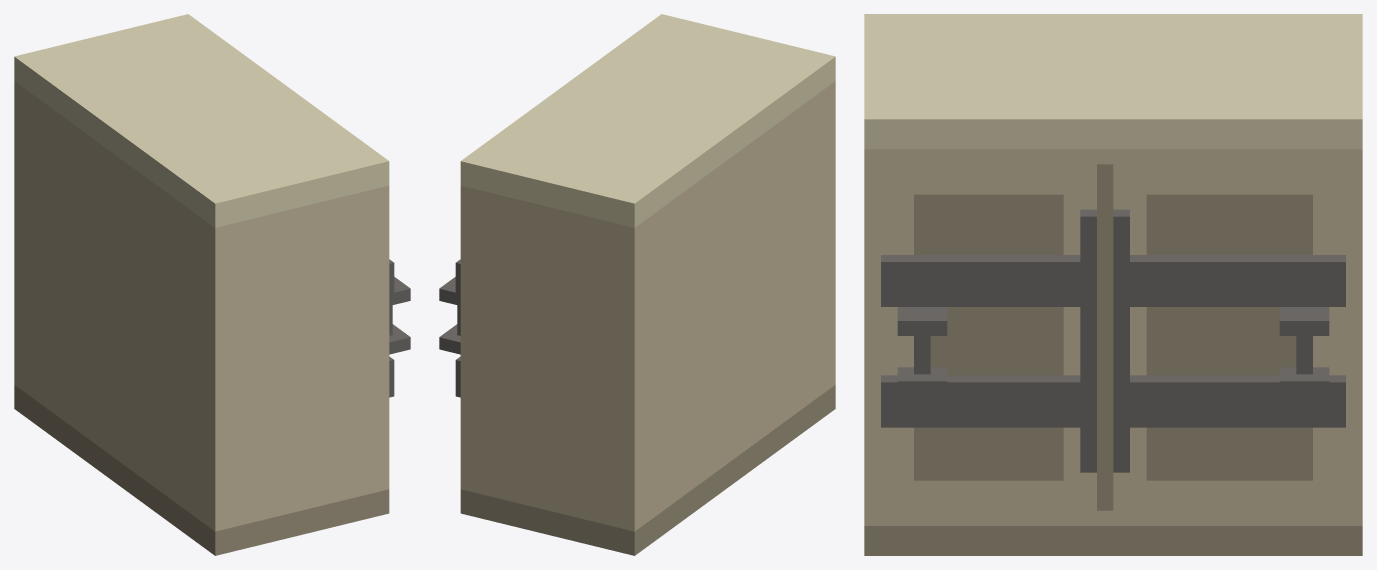
File: alacena_cocina_pino_01.glb
3 views of the same model, side by side, from view 1: azimuth 30°, elevation 25°; view 2: azimuth 150°, elevation 25°; view 3: azimuth 270°, elevation 25° (orthographic). The views are drawn at different scales.
Parts seen in each view (by area): view 1: alacena_cocina_pino; view 2: alacena_cocina_pino; view 3: alacena_cocina_pino.
Boxes of the visible parts, box(x1,y1,x2,y2) form: alacena_cocina_pino: box(14, 14, 410, 555); alacena_cocina_pino: box(439, 14, 835, 555); alacena_cocina_pino: box(864, 14, 1362, 555).
Size of the model in its own units: 1.2 by 1.93 by 2.
